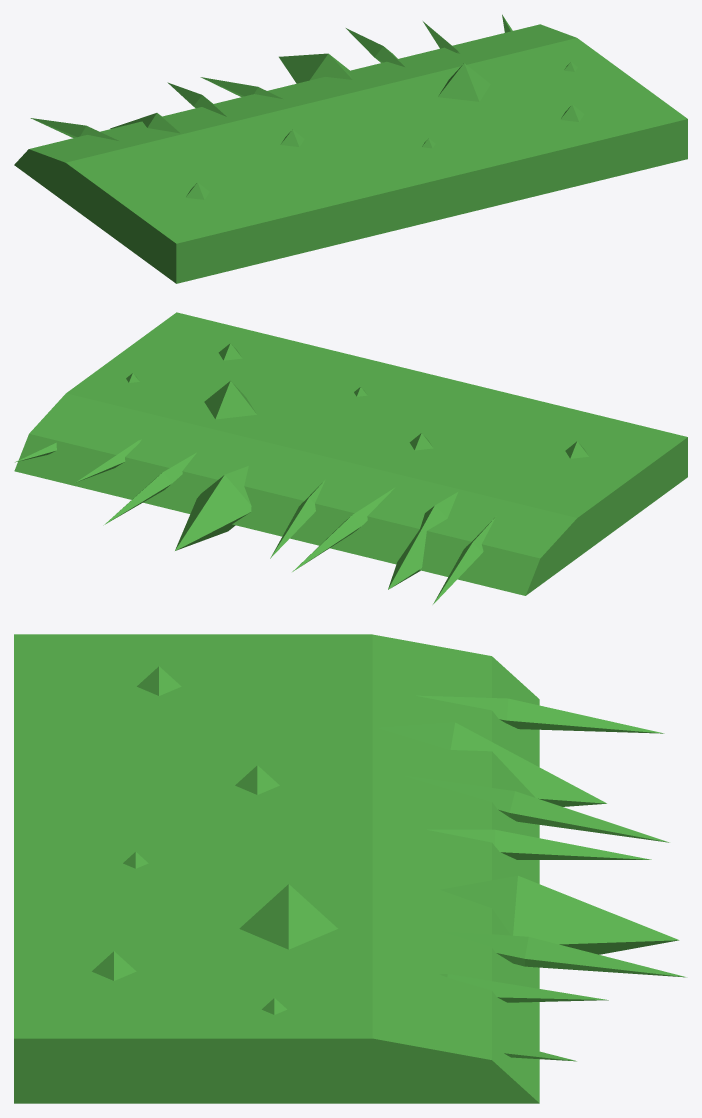
Rendered from Floor-Outdoor-4x2x1-Grass-Edge.FBX.
The picture shows the model from 3 angles, top to bottom: view 1: azimuth 30°, elevation 25°; view 2: azimuth 150°, elevation 25°; view 3: azimuth 270°, elevation 25°; orthographic projection. The views are drawn at different scales.
Visible parts, largest first — view 1: Floor-Outdoor-4x2x1-Grass-Edge; view 2: Floor-Outdoor-4x2x1-Grass-Edge; view 3: Floor-Outdoor-4x2x1-Grass-Edge.
Part boxes in pixels (left/top/right/bottom): Floor-Outdoor-4x2x1-Grass-Edge: left=14, top=14, right=687, bottom=283; Floor-Outdoor-4x2x1-Grass-Edge: left=14, top=312, right=687, bottom=604; Floor-Outdoor-4x2x1-Grass-Edge: left=14, top=634, right=686, bottom=1103.
Bounding box in the file's own units: 40 × 6.41 × 28.2.
